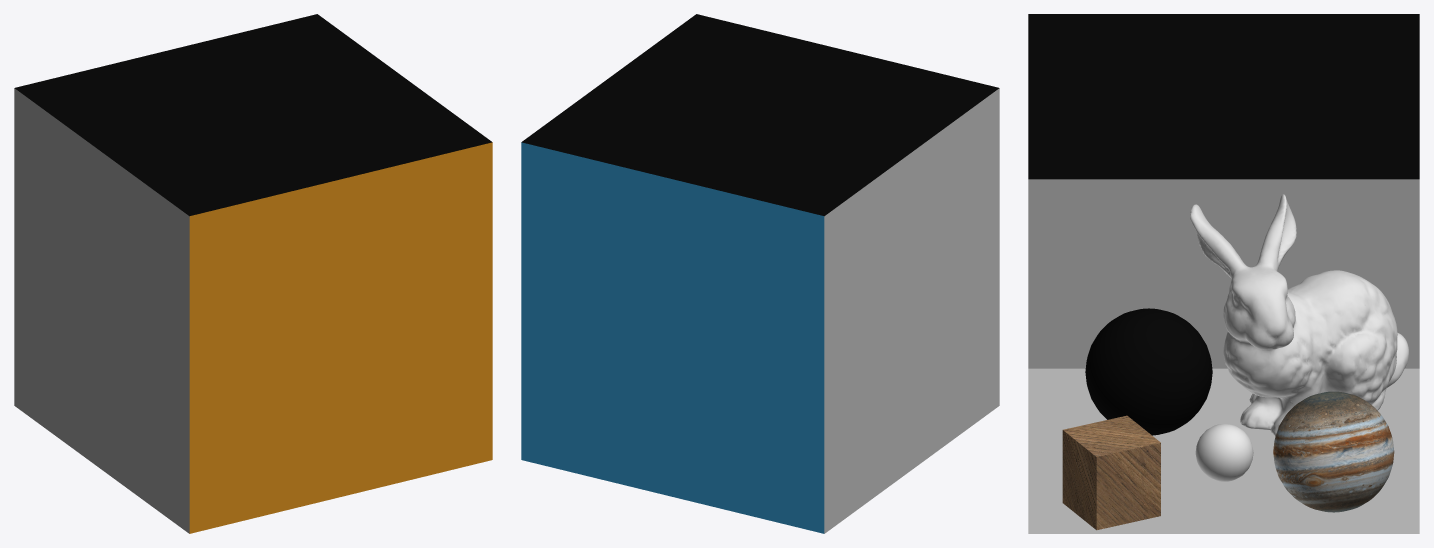
Rendered from testScene_path_trace_bunny.dae.
The picture shows the model from 3 angles, left to right: view 1: azimuth 30°, elevation 25°; view 2: azimuth 150°, elevation 25°; view 3: azimuth 270°, elevation 25°; orthographic projection. The views are drawn at different scales.
Parts seen in each view (by area): view 1: Cube_013; view 2: Cube_013; view 3: Cube_013, bunny, Sphere_002, Sphere_004, Cube_015, Sphere_003.
Part boxes in pixels (x1,y1,x2,y2): Cube_013: (14,14,492,533); Cube_013: (521,14,999,533); Cube_013: (1028,14,1419,533); bunny: (1190,194,1408,435); Sphere_002: (1085,308,1212,435); Sphere_004: (1273,391,1394,512); Cube_015: (1062,415,1160,530); Sphere_003: (1195,424,1253,481).
Bounding box in the file's own units: 3.4 × 3.37 × 3.38.
9 materials, 2 textured.
